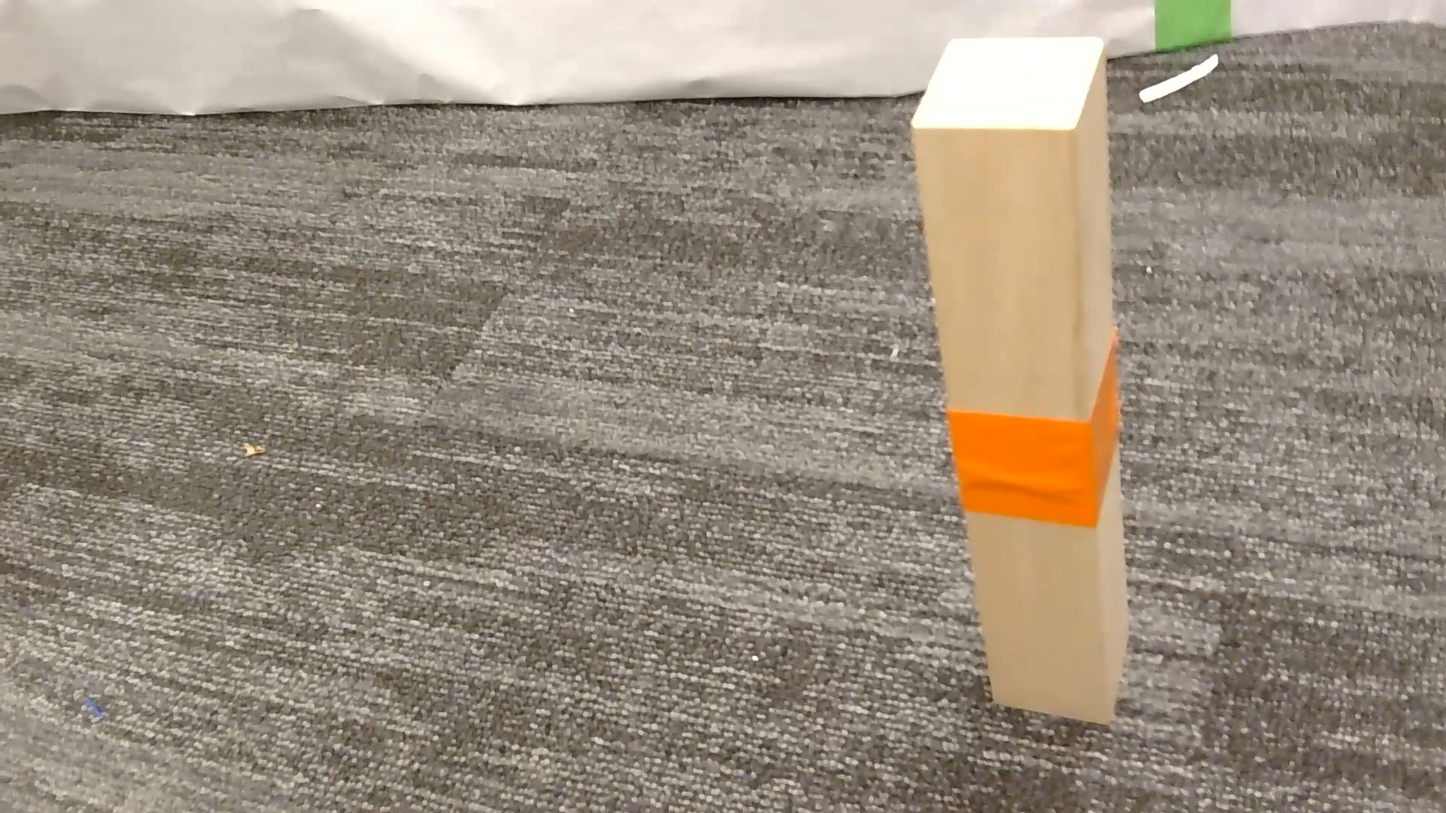Wooden Block: (912, 37, 1127, 723)
